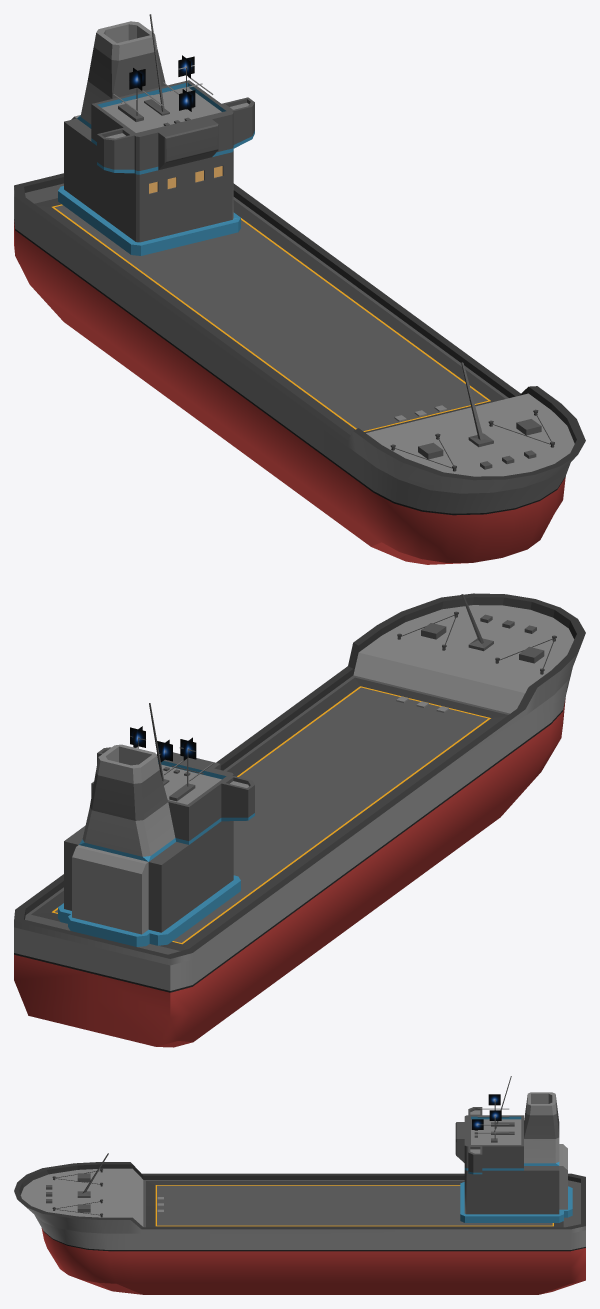
Rendered from model_polyfleet_boat01.fbx.
The picture shows the model from 3 angles, top to bottom: view 1: azimuth 30°, elevation 25°; view 2: azimuth 150°, elevation 25°; view 3: azimuth 270°, elevation 25°; orthographic projection. The views are drawn at different scales.
Visible parts, largest first — view 1: model_polyfleet_boat01, emissivelight; view 2: model_polyfleet_boat01, emissivelight; view 3: model_polyfleet_boat01, emissivelight.
Boxes of the visible parts, box(x1,y1,x2,y2) form: model_polyfleet_boat01: box(14, 14, 585, 564); emissivelight: box(129, 55, 222, 193); model_polyfleet_boat01: box(14, 593, 585, 1047); emissivelight: box(130, 726, 196, 762); model_polyfleet_boat01: box(14, 1076, 585, 1294); emissivelight: box(471, 1094, 501, 1129).
Bounding box in the file's own units: 1086 × 1731 × 4526.
